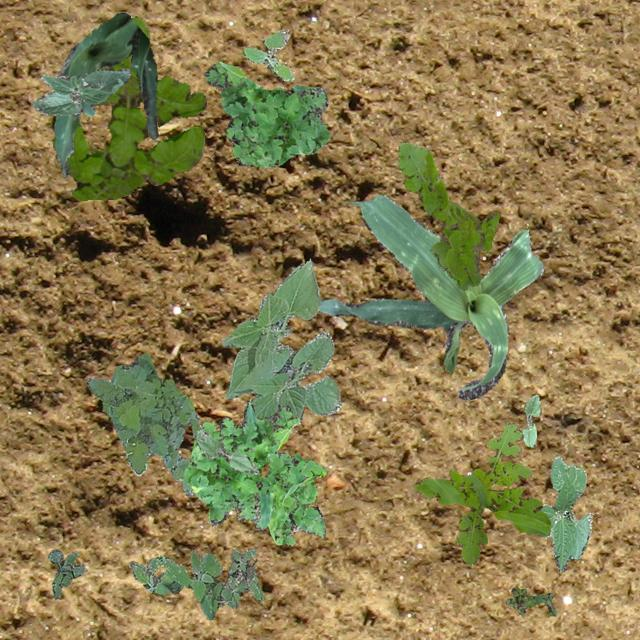crop: (316, 194, 542, 398), (220, 257, 340, 423), (54, 11, 158, 178), (538, 454, 592, 570), (30, 66, 130, 115), (196, 429, 256, 474), (520, 394, 540, 446)
weed: (51, 14, 206, 200), (412, 422, 550, 564), (86, 352, 200, 496), (396, 142, 498, 290), (182, 401, 298, 528), (203, 61, 329, 168), (128, 548, 262, 618), (258, 450, 326, 544), (242, 28, 294, 80), (48, 548, 84, 598), (504, 588, 556, 616)
